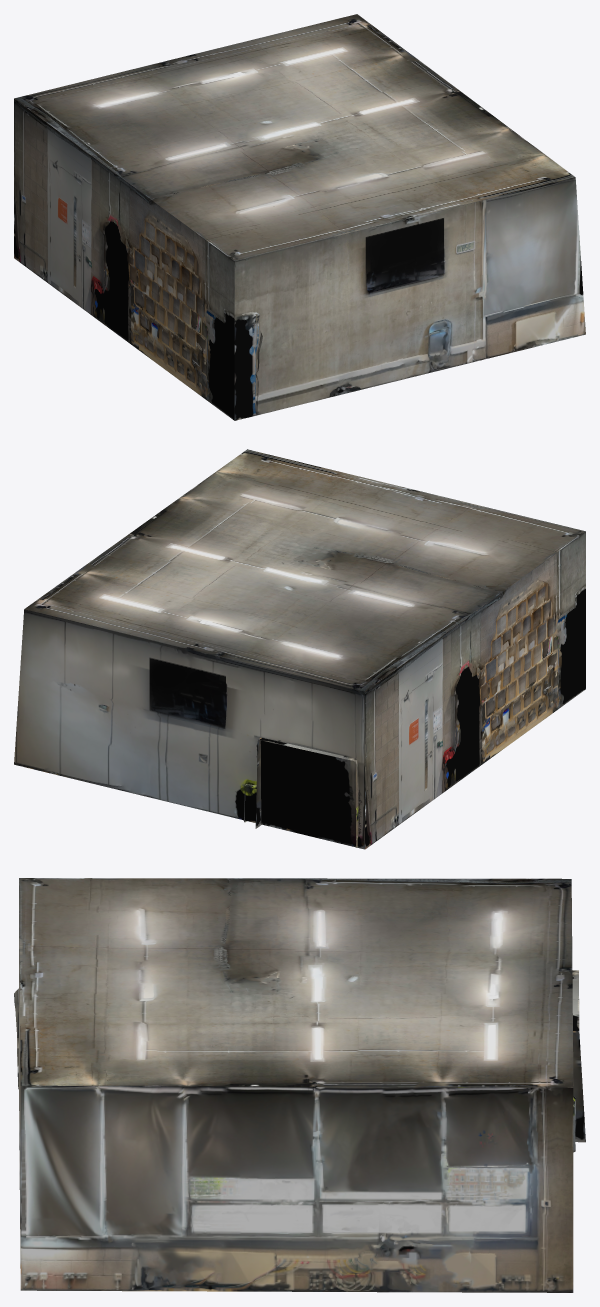
3 renders of one model, top to bottom at view 1: azimuth 30°, elevation 25°; view 2: azimuth 150°, elevation 25°; view 3: azimuth 270°, elevation 25°, orthographic. The views are drawn at different scales.
Parts seen in each view (by area): view 1: M104d_v2-IM; view 2: M104d_v2-IM; view 3: M104d_v2-IM.
Part boxes in pixels (x1,y1,x2,y2): M104d_v2-IM: (14, 14, 585, 420); M104d_v2-IM: (14, 449, 585, 849); M104d_v2-IM: (14, 878, 585, 1292).
Bounding box in the file's own units: 730 × 324 × 817.
Materials: 1 (1 with a texture image).
